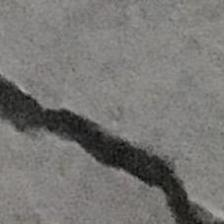Crack: (0, 27, 223, 224)
